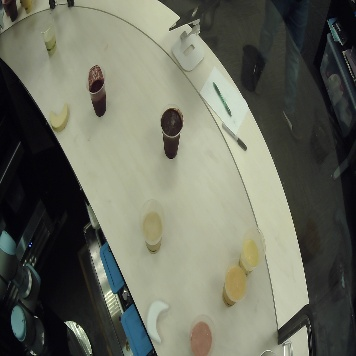full_cup: (237, 228, 266, 278), (140, 198, 165, 254), (159, 102, 184, 158), (84, 64, 109, 120), (221, 262, 251, 307), (187, 314, 217, 355), (37, 16, 58, 57), (2, 1, 20, 22), (19, 1, 33, 15)
puck: (146, 300, 169, 344), (48, 104, 69, 132)
